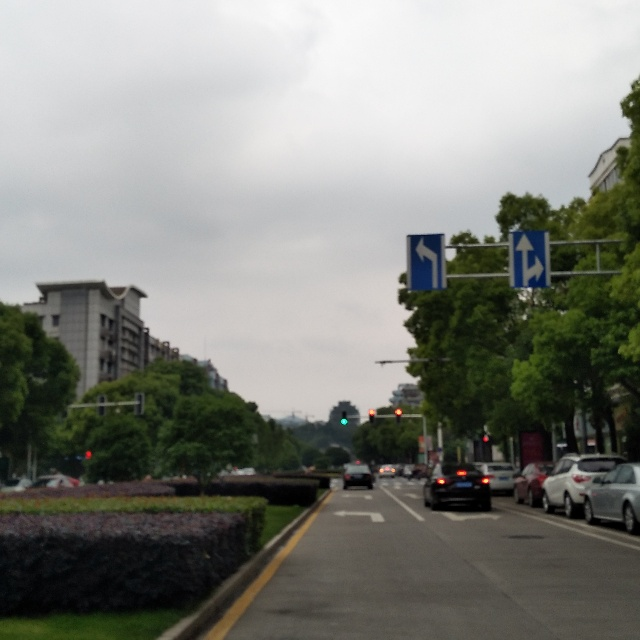left: (408, 235, 444, 291)
